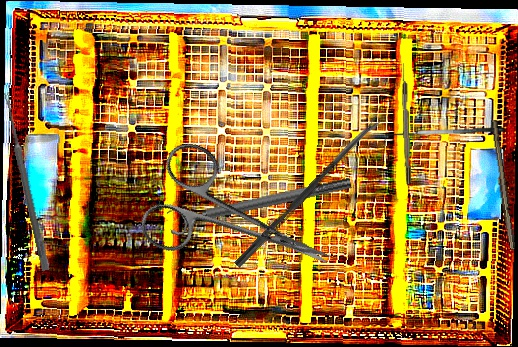Fixation Ring: (166, 169, 354, 238)
Hook Surgical: (400, 62, 412, 185)
Iris Scissors: (132, 136, 351, 314)
Scalpel Handle: (487, 119, 518, 251)
Spatula Surgical: (382, 126, 506, 145)
Surgical Spoon: (233, 116, 383, 269), (1, 91, 51, 272)
